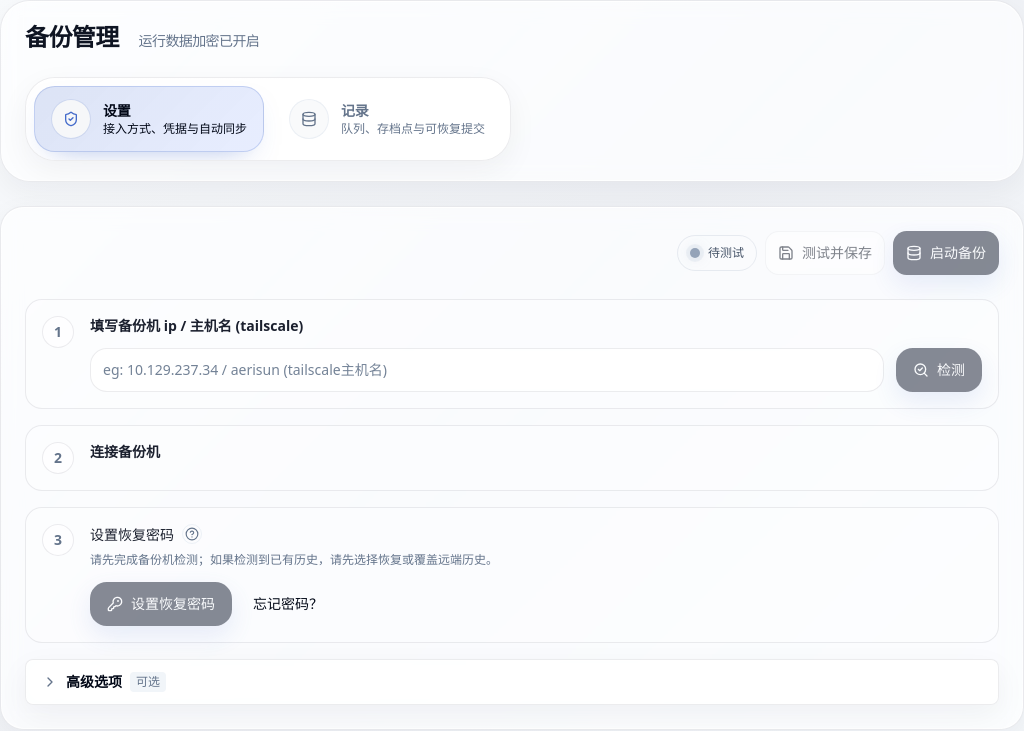
Test: BackupsPage usability › keeps recovery password disabled until backup machine detection is safe
The width and height of the screenshot is (1024, 731).
Expected: the button "设置恢复密码" is disabled, top-left (90, 582), bottom-right (232, 626)
Type "backup.example.com" into the field with placeholder "eg: 10.129.237.34 / aerisun (tailscale主机名)" at x=487, y=370, box top-left (90, 348), bottom-right (884, 392)
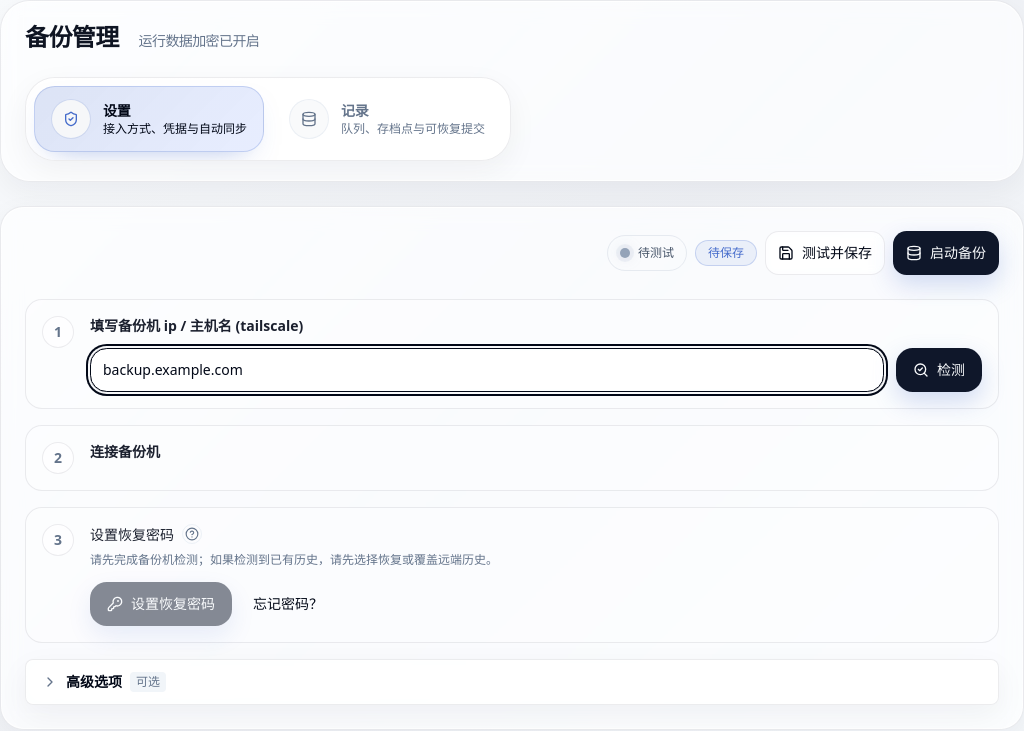
Click the button "检测" at x=939, y=370, box top-left (896, 348), bottom-right (982, 392)
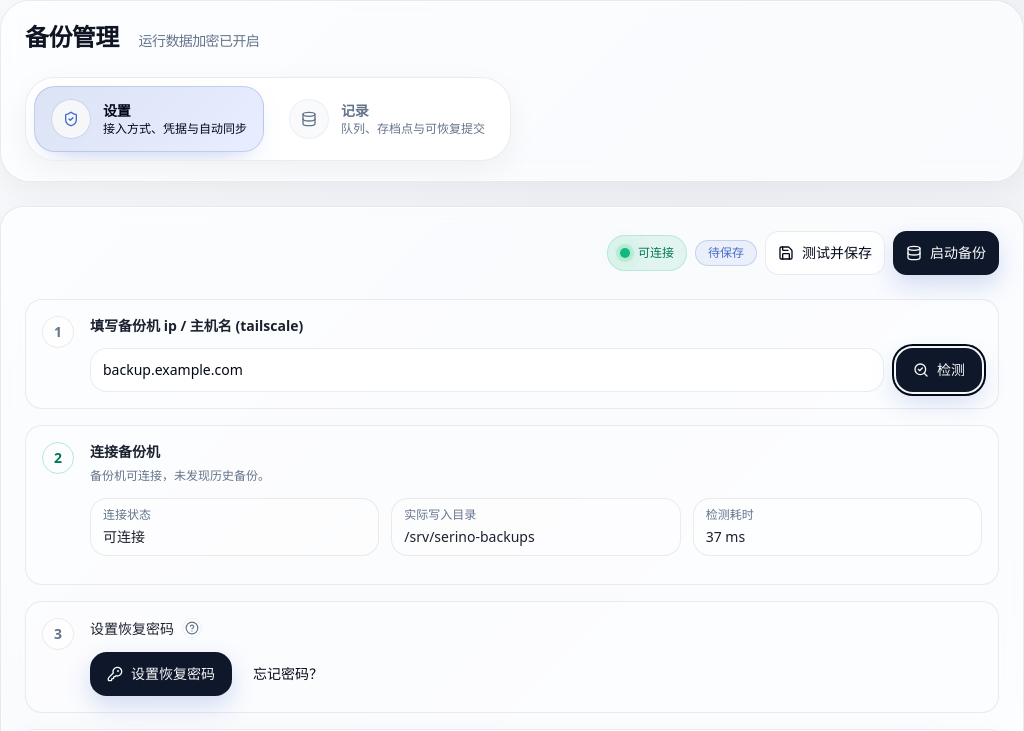
Result: the button "设置恢复密码" is enabled at top-left (90, 652), bottom-right (232, 696)
